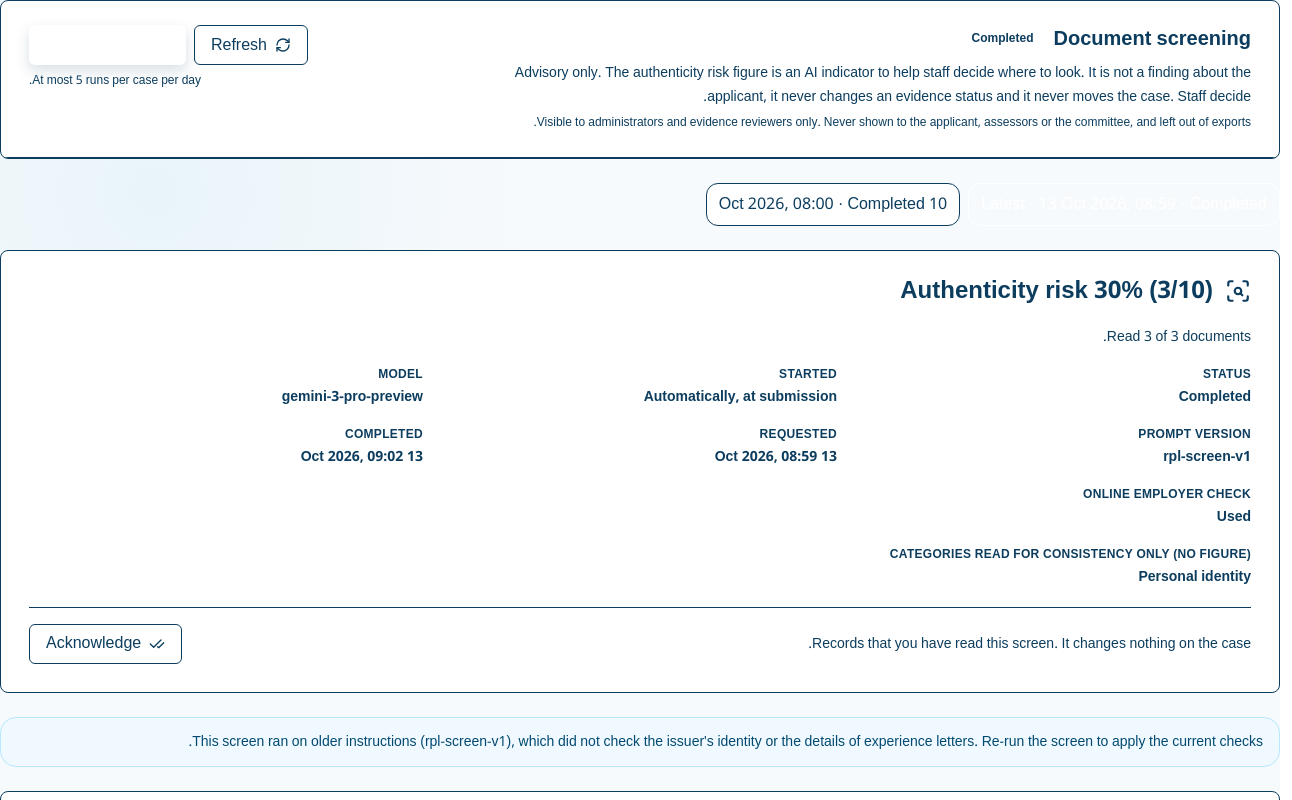
Scenario: the run list › opens an earlier run
Expected: the text "Authenticity risk 30% (3/10)" is shown, [900,275,1213,307]
Click the button "10 Oct 2026, 08:00 · Completed". click: (833, 204)
box: [706,183,960,226]
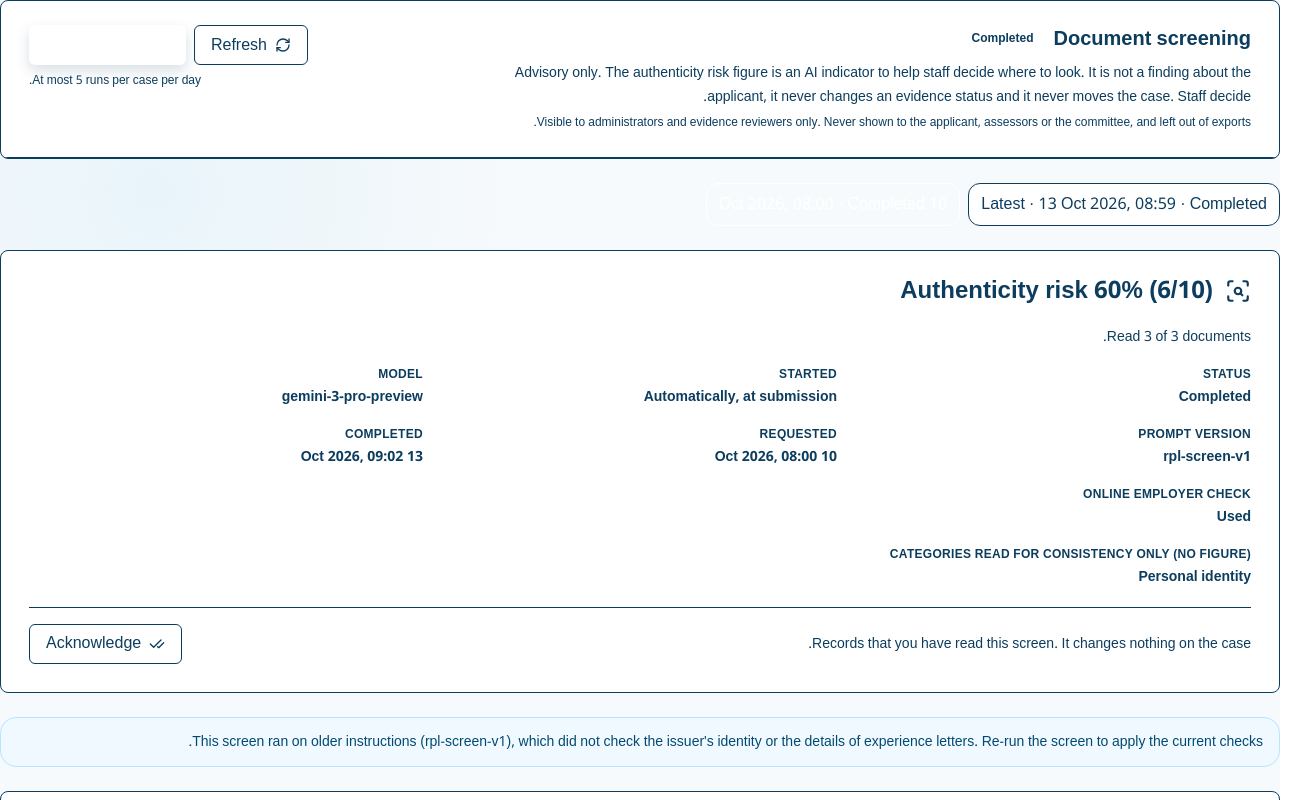
Now the text "Authenticity risk 60% (6/10)" is shown, box [900,275,1213,307]
